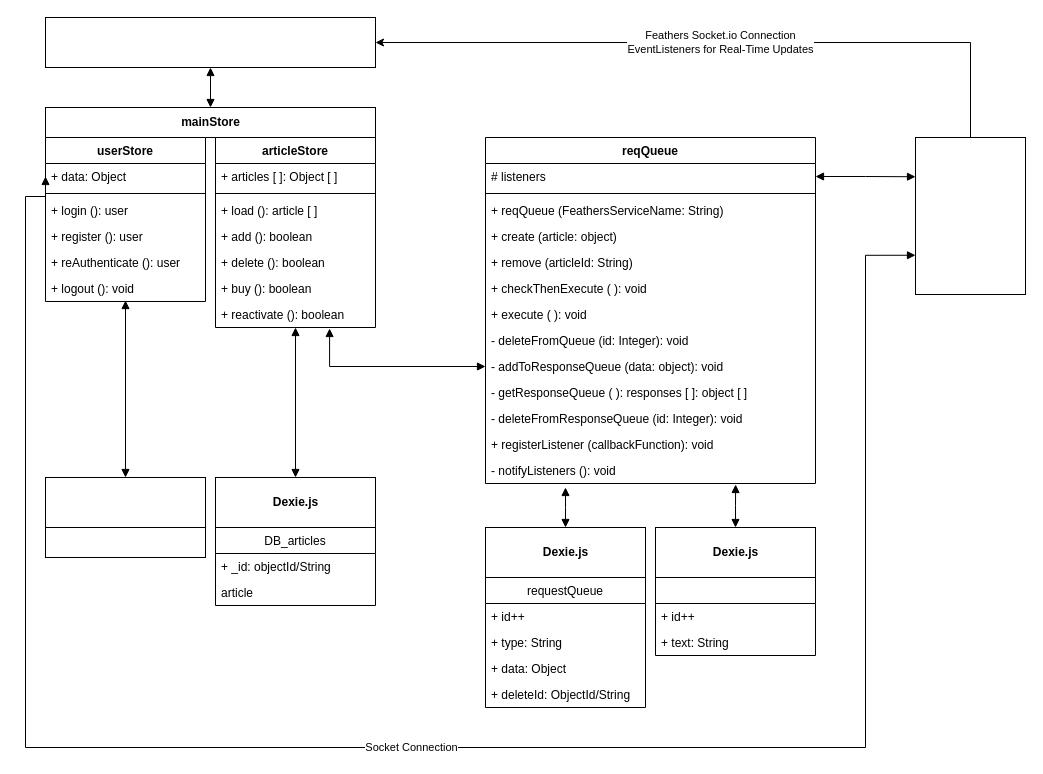
The diagram is 1043 pixels wide and 774 high, and some of its shapes have lost their labels. The box of each missing label's shape, as (x1, y1, x2, y2) in pixels:
+ user: (44, 526, 206, 558)
Backend Feathers.js: (914, 136, 1026, 294)
FrontEnd: (44, 16, 376, 68)
LocalStorage: (44, 476, 206, 528)
responseQueue: (654, 576, 816, 656)
